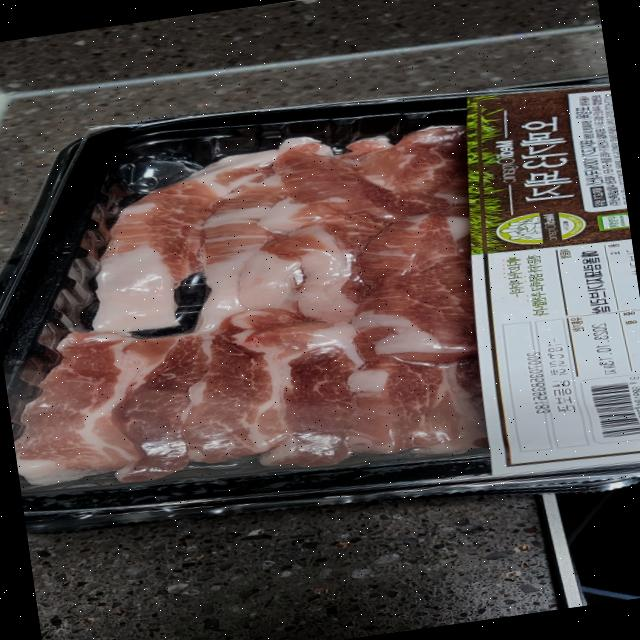meat: (0, 58, 640, 526)
